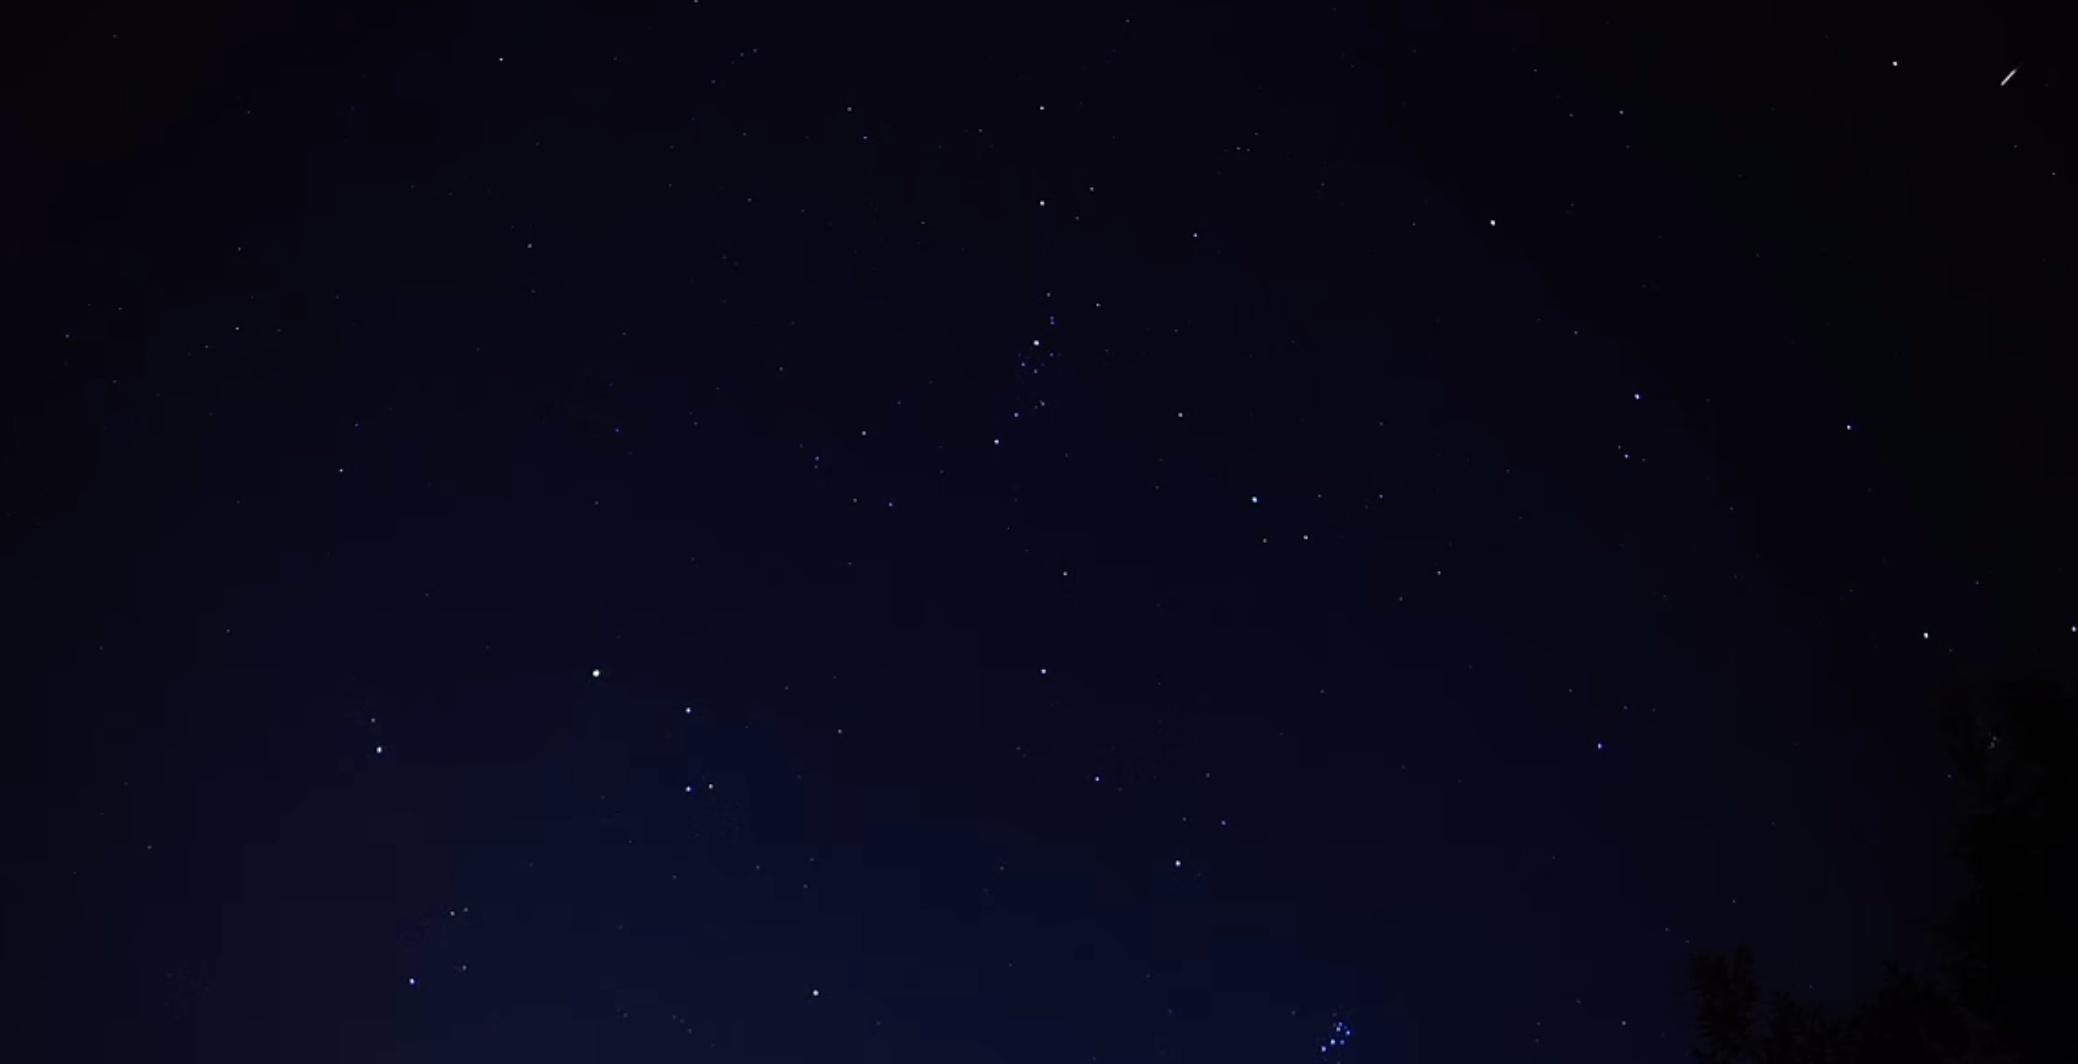meteorite: (1963, 52, 2056, 100)
